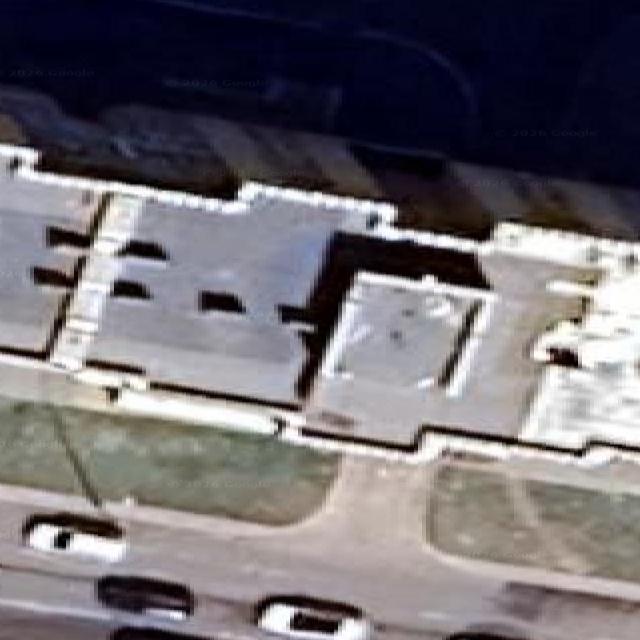car: (532, 313, 636, 369), (23, 512, 125, 562), (256, 595, 368, 639), (96, 575, 192, 620), (532, 320, 580, 367), (108, 627, 206, 639), (446, 632, 522, 639)
